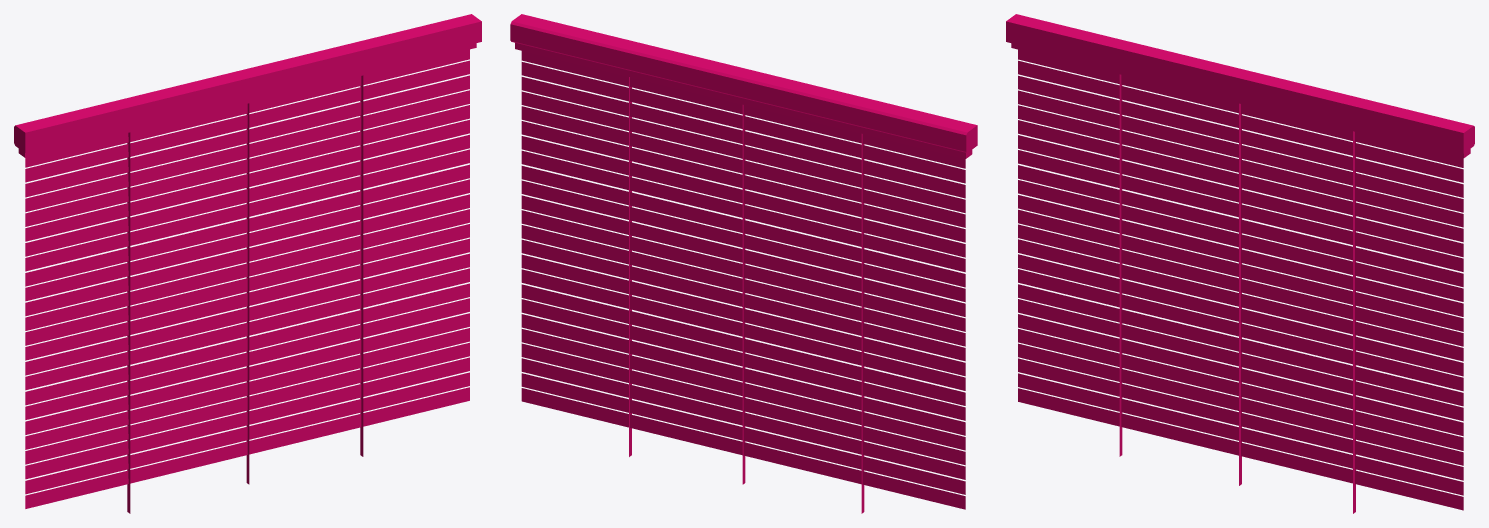
File: Venitian_Blinds_01_Lod0.fbx
The picture shows the model from 3 angles, left to right: view 1: azimuth 30°, elevation 25°; view 2: azimuth 150°, elevation 25°; view 3: azimuth 330°, elevation 25°; orthographic projection.
Parts seen in each view (by area): view 1: Venitian_Blinds_01_Lod0; view 2: Venitian_Blinds_01_Lod0; view 3: Venitian_Blinds_01_Lod0.
Part boxes in pixels (bbox=[...]): Venitian_Blinds_01_Lod0: bbox=[14, 14, 481, 513]; Venitian_Blinds_01_Lod0: bbox=[510, 14, 977, 513]; Venitian_Blinds_01_Lod0: bbox=[1006, 14, 1474, 513].
Bounding box in the file's own units: 179 × 154 × 7.6.
